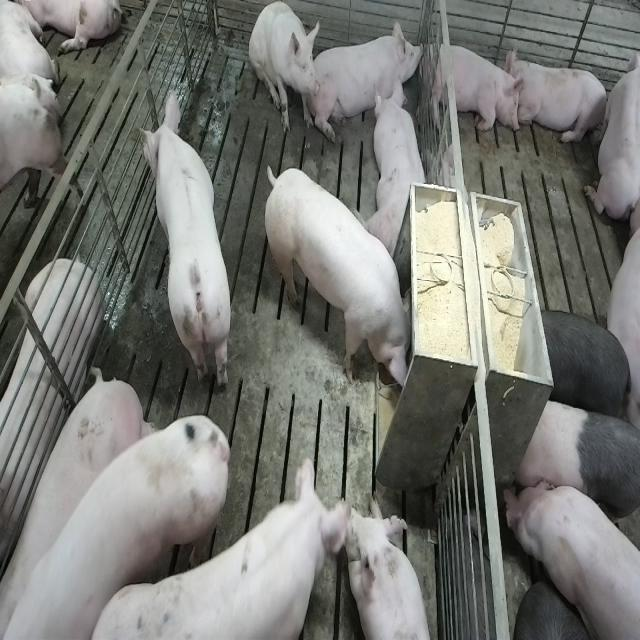Feeding: (269, 165, 422, 396)
Lateral_lying: (0, 256, 103, 592)
Sitting: (249, 2, 320, 136)
Standing: (5, 386, 237, 640), (112, 451, 362, 638), (138, 91, 234, 396), (502, 474, 638, 640), (512, 398, 638, 540), (537, 304, 637, 427)
Sternal_lying: (314, 12, 426, 138), (349, 494, 435, 640), (369, 79, 431, 256), (584, 38, 637, 226), (425, 37, 523, 138), (509, 52, 610, 149)
